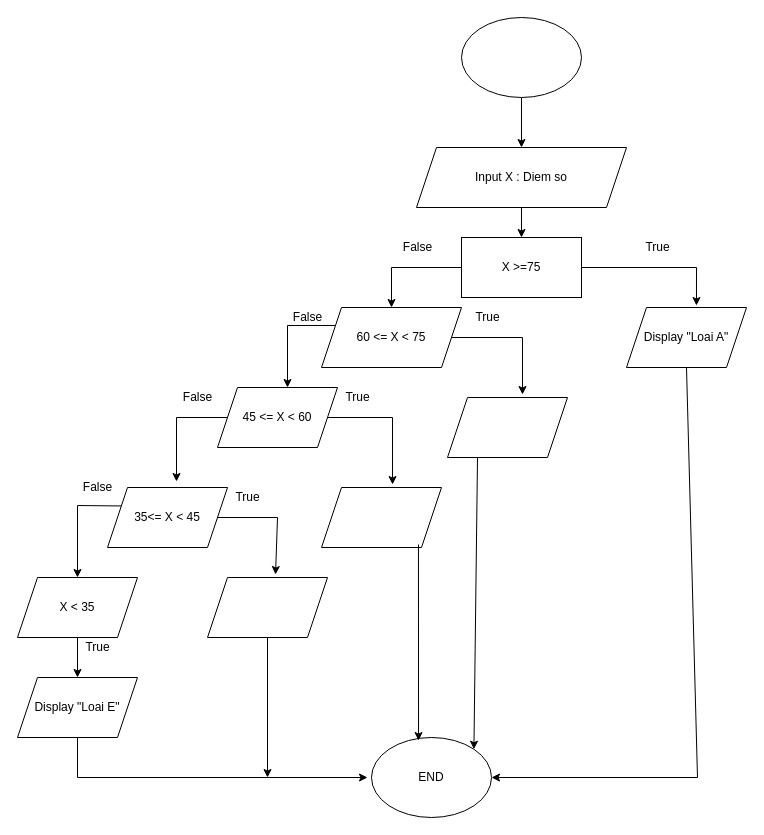
This 764x835 diagram has some shape labels left out. Each missing label, with the centre of its shape:
BEGIN: point (521, 57)
Display "Loai B": point (507, 427)
Display "Loai C": point (381, 517)
Display "Loai D": point (267, 607)
